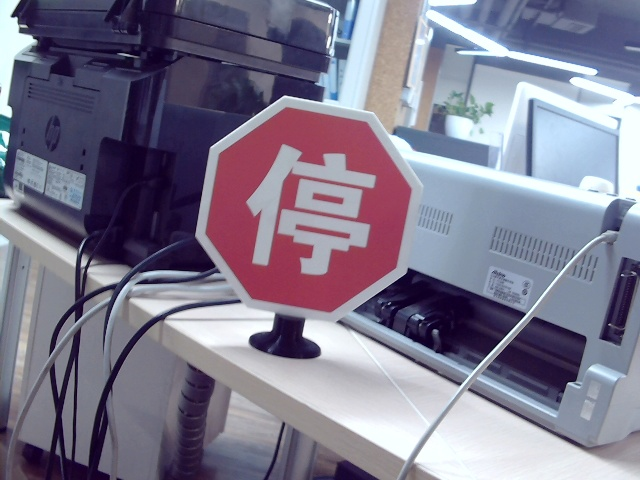stop: (252, 134, 371, 279)
